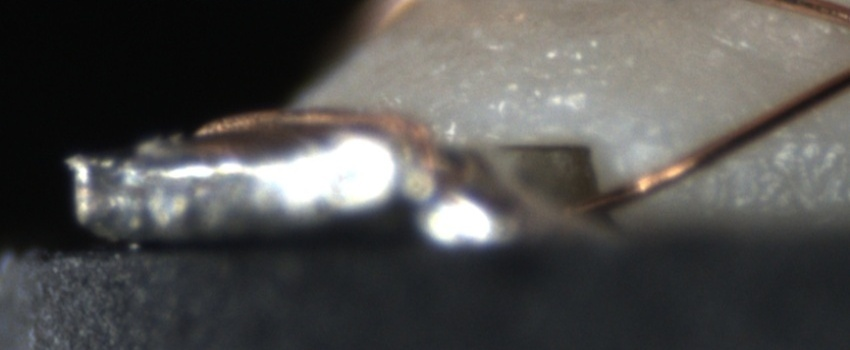DL: (771, 109, 846, 173)
TE: (172, 108, 446, 156)
